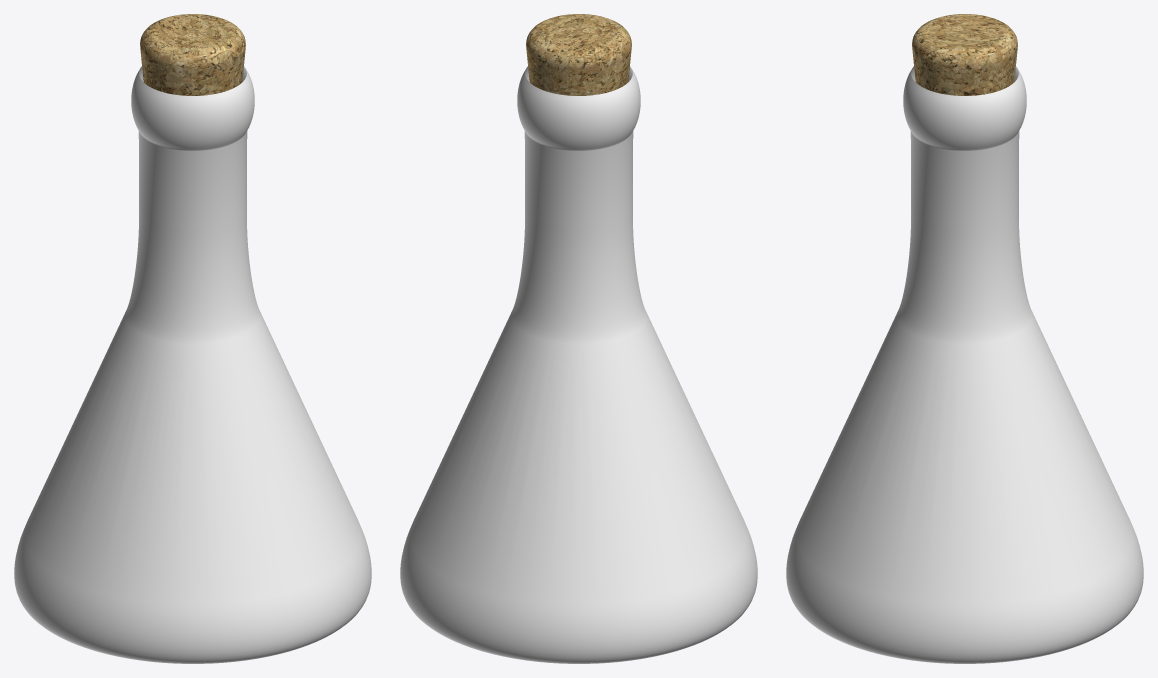
File: Potion.glb
The picture shows the model from 3 angles, left to right: view 1: azimuth 30°, elevation 25°; view 2: azimuth 150°, elevation 25°; view 3: azimuth 270°, elevation 25°; orthographic projection.
Parts seen in each view (by area): view 1: Kolben 1, Cylinder; view 2: Kolben 1, Cylinder; view 3: Kolben 1, Cylinder.
Part boxes in pixels (box(x1,y1,x2,y2)): Kolben 1: box(14, 66, 371, 663); Cylinder: box(140, 14, 245, 95); Kolben 1: box(400, 66, 757, 663); Cylinder: box(526, 14, 631, 95); Kolben 1: box(786, 66, 1143, 663); Cylinder: box(912, 14, 1017, 95).
Bounding box in the file's own units: 6.63 × 11.49 × 6.64.
Materials: 3 (1 with a texture image).
